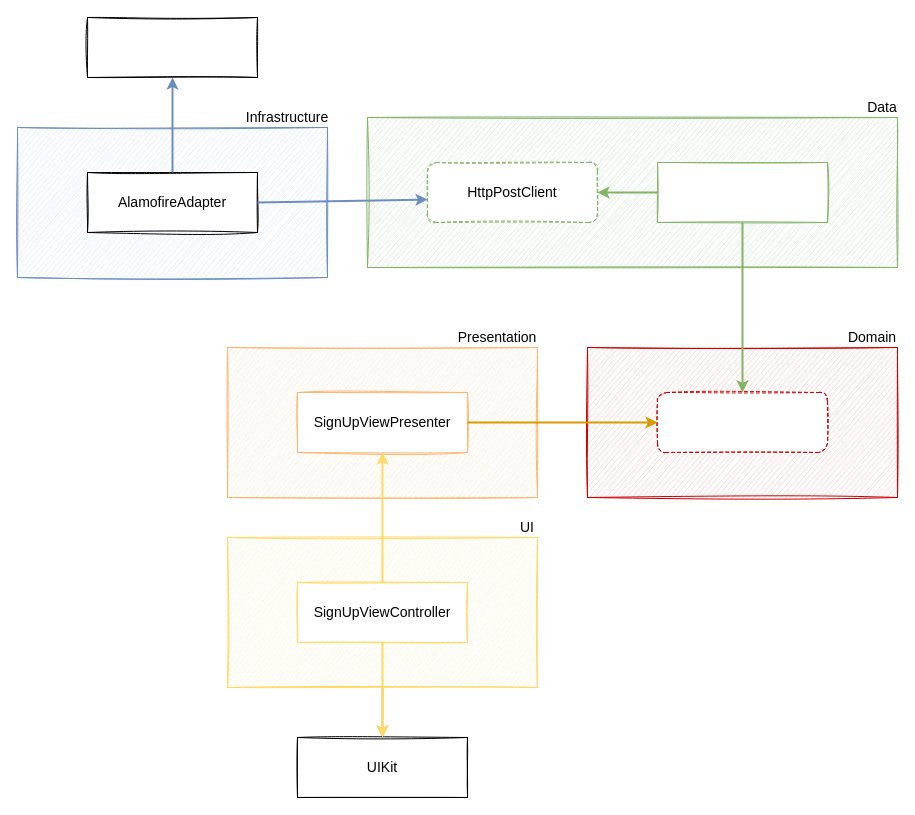
Image size: 915x815. Some labels were removed from this diagram. Each missing label, with the centre of its shape:
AddAccount: pixel 742 422
Alamofire: pixel 172 47
RemoteAddAccount: pixel 742 192
